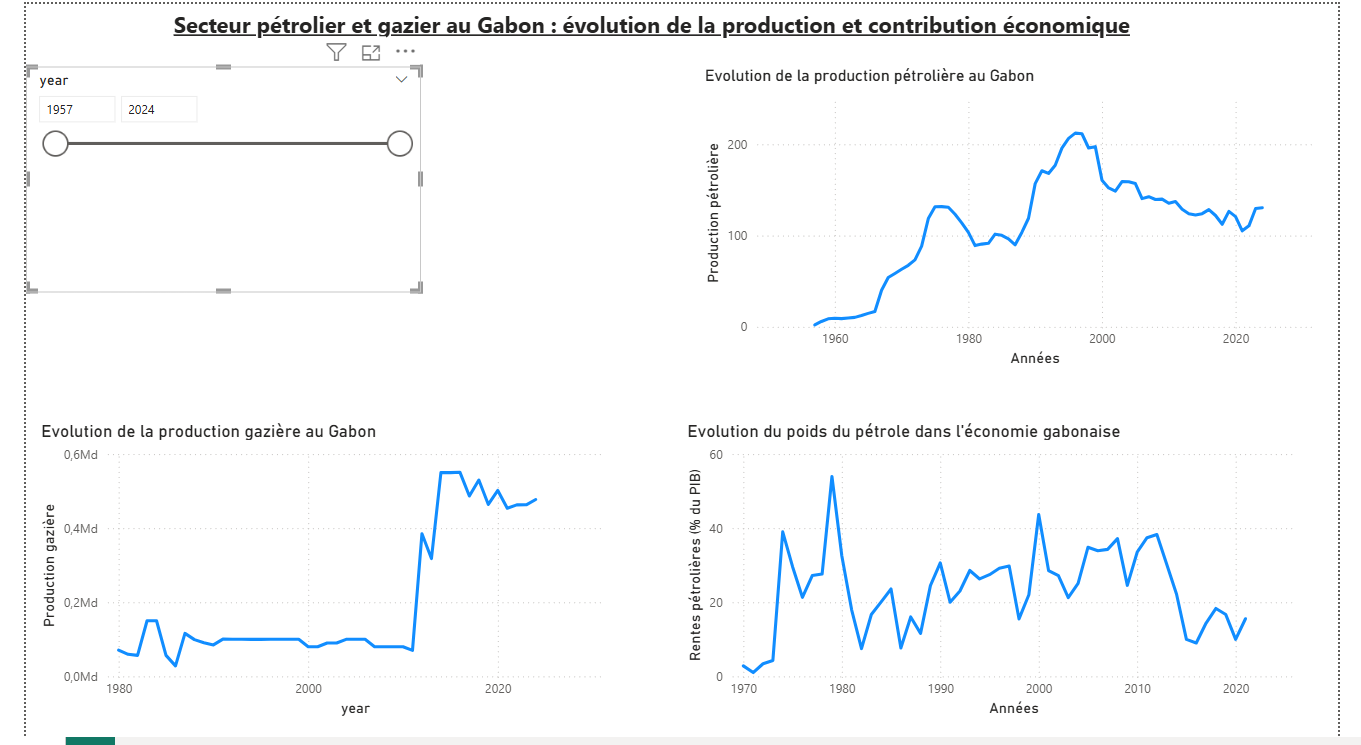

Layout of this report page (visuals, bound fields, positions):
{"tool":"powerbi","page":{"name":"Page 1","canvas":[1280,720],"ordinal":0},"visuals":[{"type":"slicer","fields":{"Values":["Years.year"]},"box":[0,60.9,385.5,220.3],"z":0},{"type":"lineChart","title":"Evolution de la production pétrolière au Gabon","fields":{"Category":["gabon_oil.year"],"Y":["Sum(gabon_oil.oil_production__twh)"]},"box":[657.1,61.2,606.1,298],"z":1},{"type":"lineChart","title":"Evolution de la production gazière au Gabon","fields":{"Category":["gabon_gas.year"],"Y":["Sum(gabon_gas.natural_gas_production)"]},"box":[10.2,406.1,561.2,293.9],"z":2},{"type":"lineChart","title":"Evolution du poids du pétrole dans l''économie gabonaise","fields":{"Category":["gabon_rents.year"],"Y":["Sum(gabon_rents.oil_rents_pct_gdp)"]},"box":[640.8,406.1,606.1,293.9],"z":3},{"type":"textbox","box":[138.8,0,1036.7,61.2],"z":4}]}

Visuals, with their boxes in screenshot pixels (x1, y1, x2, y2), scaled from the page's 1280x720 canvas onto the 1361x745 screenshot:
slicer - Years.year: <bbox>0, 63, 410, 291</bbox>
"Evolution de la production pétrolière au Gabon" lineChart: <bbox>699, 63, 1343, 372</bbox>
"Evolution de la production gazière au Gabon" lineChart: <bbox>11, 420, 608, 724</bbox>
"Evolution du poids du pétrole dans l''économie gabonaise" lineChart: <bbox>681, 420, 1326, 724</bbox>
textbox: <bbox>148, 0, 1250, 63</bbox>
